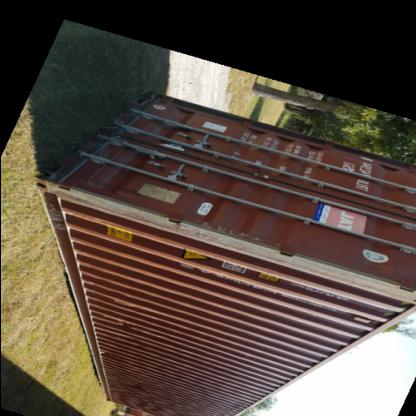Damage: (200, 213, 284, 251), (115, 314, 138, 338), (121, 375, 150, 394), (99, 348, 121, 360)
